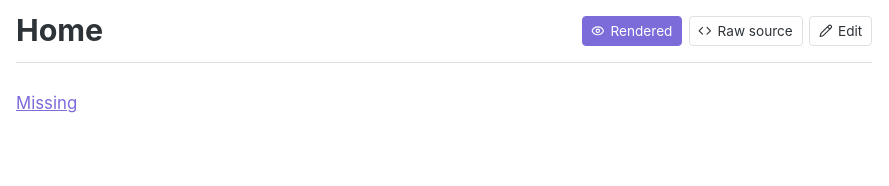
Test: NoteViewer › shows a notice instead of navigating for unresolved in-note links
The width and height of the screenshot is (889, 186).
Click the link "Missing" at (47, 103), box [16,93,77,113]
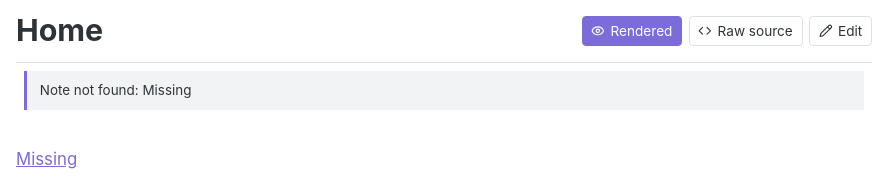
Expected: the message reads "Note not found: Missing", [24,71,864,110]
